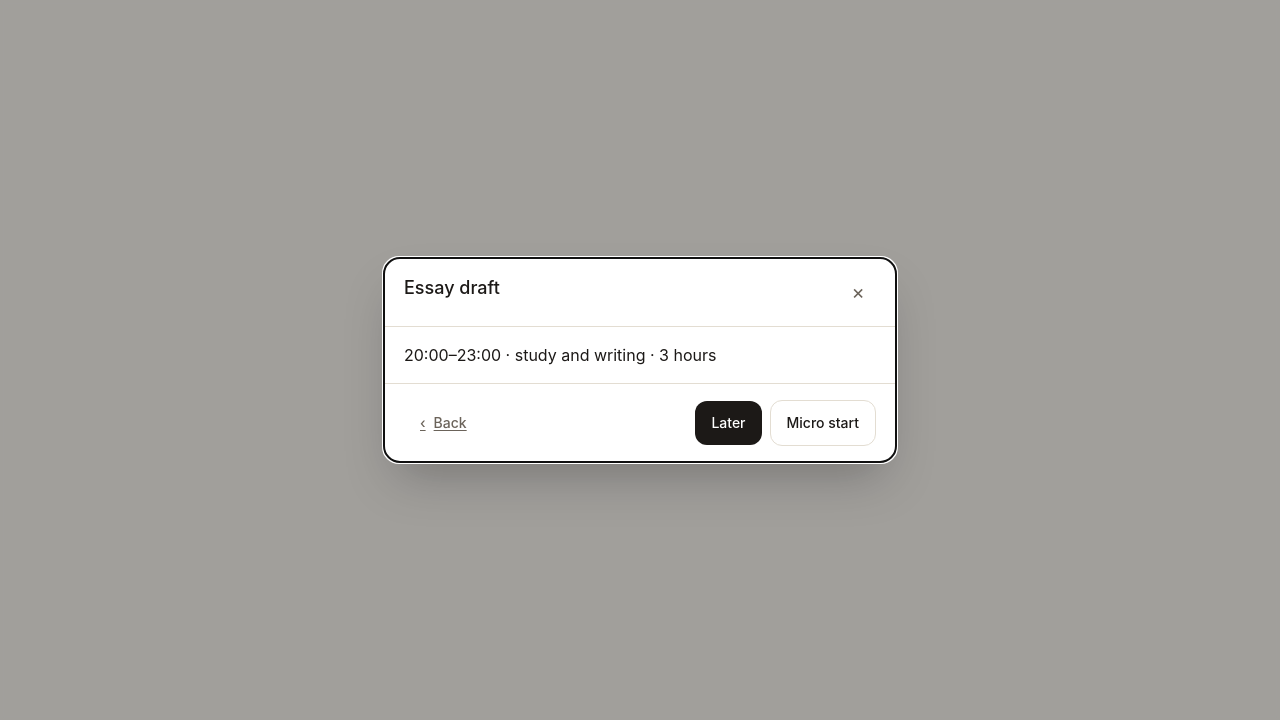
Test: what the line under the title says › the Later proposal › offers no move when there is nowhere for the block to go
Click the button "Later".
click(728, 423)  # box [695,401,762,445]
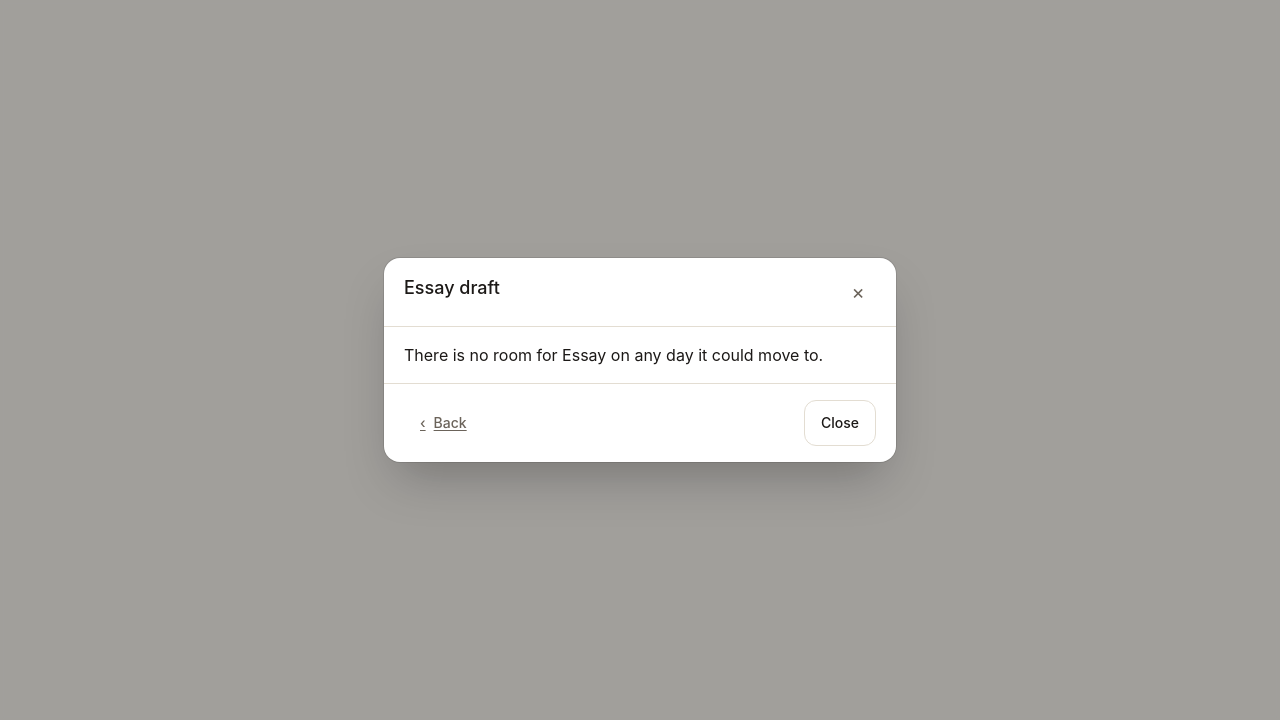
Expected: the text with test id "confirm-later" shows "no room", [404,345,823,365]
Expected: the button "Close" is shown, [804,400,876,446]
